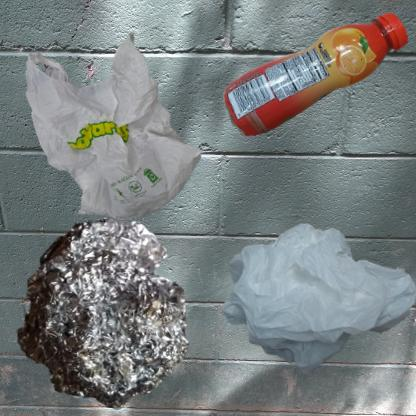aluminio: (10, 213, 193, 416)
bolsa: (10, 10, 236, 265), (213, 213, 416, 392)
botella: (213, 10, 416, 151)
